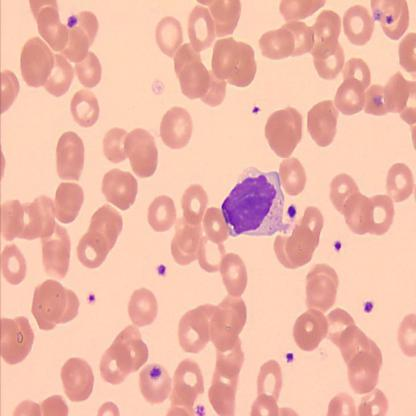Atypical lymphocyte: (220, 170, 285, 236)
